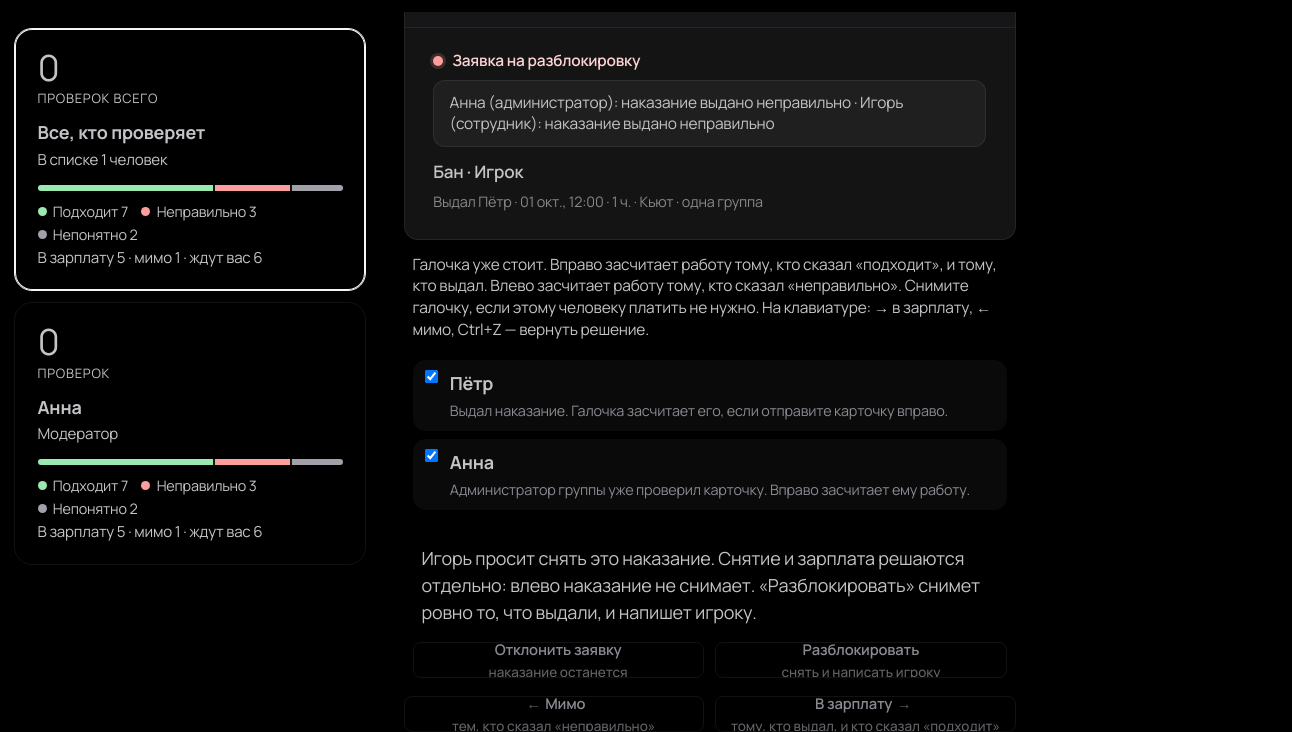
it: CreatorPay › lets the creator lift a pending request without paying by swipe
(page scrolled)
Expected: the text "Заявка на разблокировку" is shown, [433,49,640,71]
Click the button "Разблокировать снять и написать игроку" at (861, 660), box [715,642,1006,678]
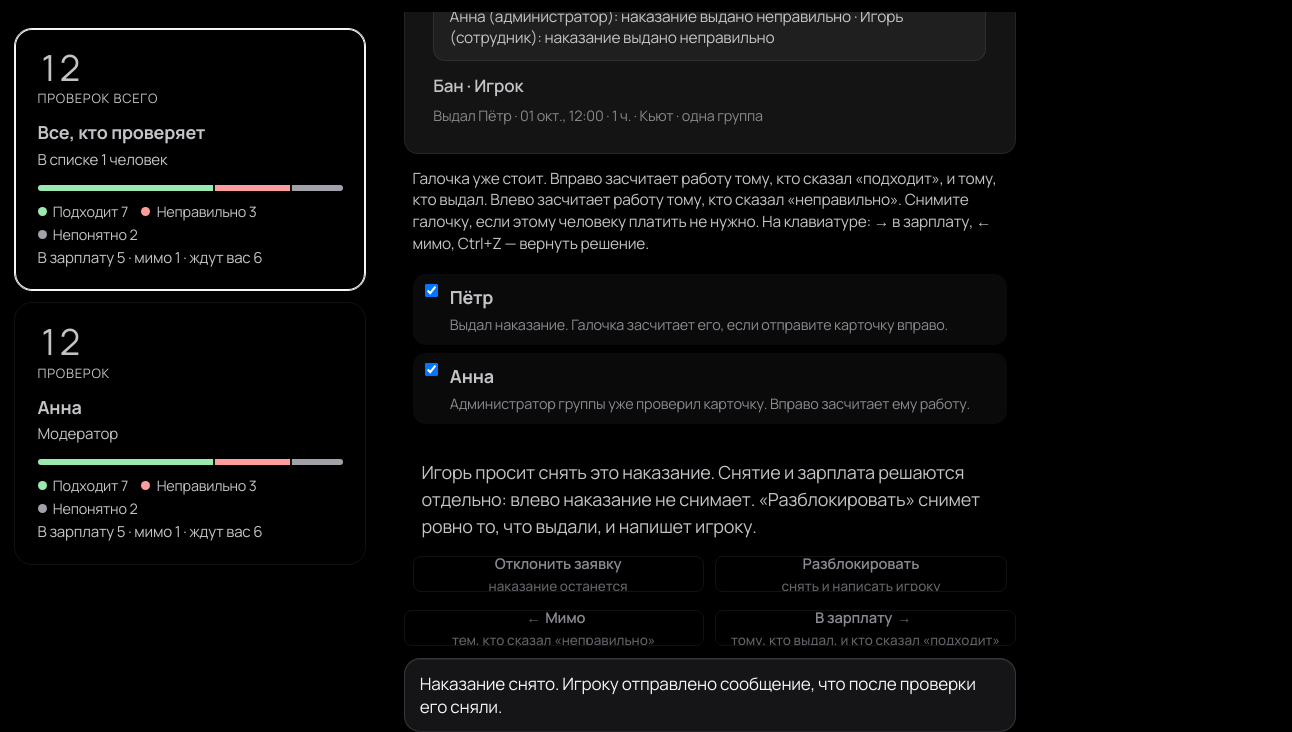
Now the text "Наказание снято" is shown, box [420,672,976,718]
